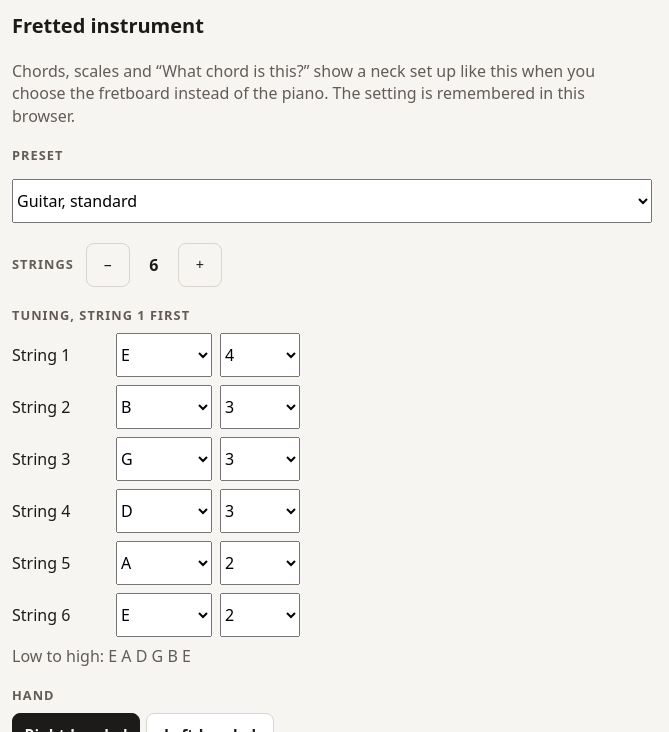
Scenario: the settings page › keeps the short name for a built-in tuning, however it was reached
Select "D" in the dropdown named "String 6 note" at (164, 615), box 116,593 -> 212,637
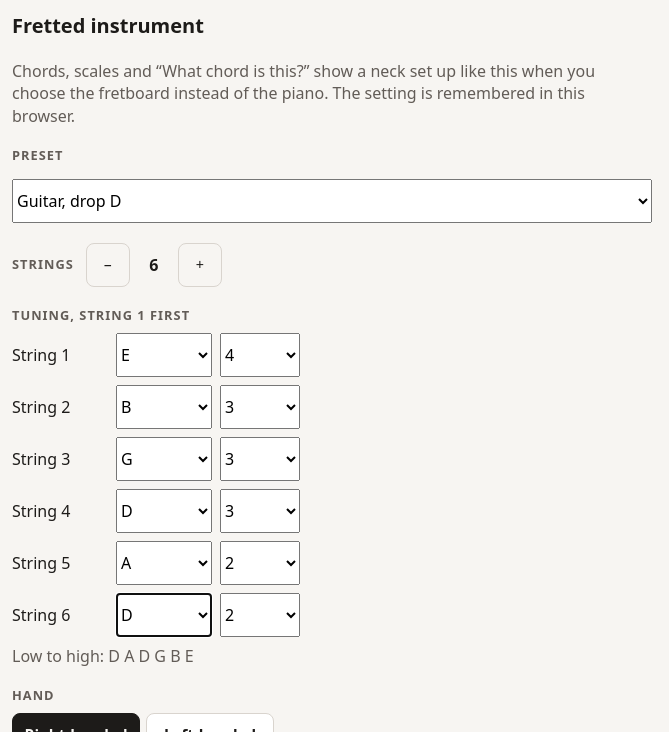
Check: the dropdown labelled "Preset" shows "Guitar, drop D", box 12,179 -> 652,223
